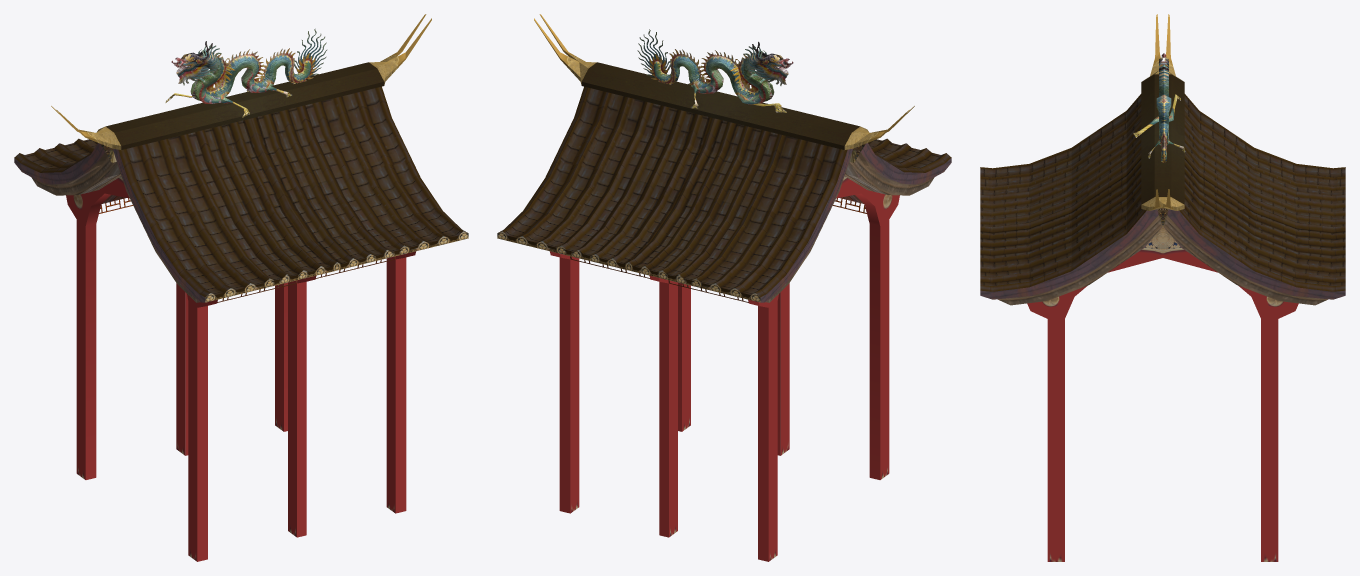
Rendered from tettodrago.obj.
The picture shows the model from 3 angles, left to right: view 1: azimuth 30°, elevation 25°; view 2: azimuth 150°, elevation 25°; view 3: azimuth 270°, elevation 25°; orthographic projection. The views are drawn at different scales.
Parts seen in each view (by area): view 1: tettodrago_Cube.003; view 2: tettodrago_Cube.003; view 3: tettodrago_Cube.003.
Part boxes in pixels (box(x1,y1,x2,y2)): tettodrago_Cube.003: box(14, 14, 468, 561); tettodrago_Cube.003: box(497, 14, 951, 561); tettodrago_Cube.003: box(980, 14, 1345, 561).
Size of the model in its own units: 11.87 by 13.94 by 10.47.
